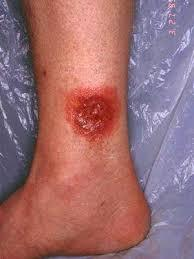Spider: (63, 85, 126, 153)
